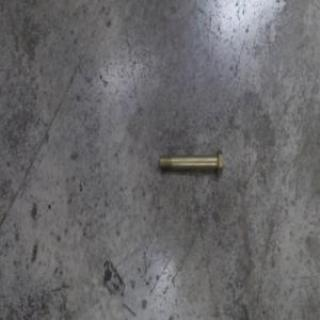Bolttrack_idkeyframe: (156, 145, 224, 175)
